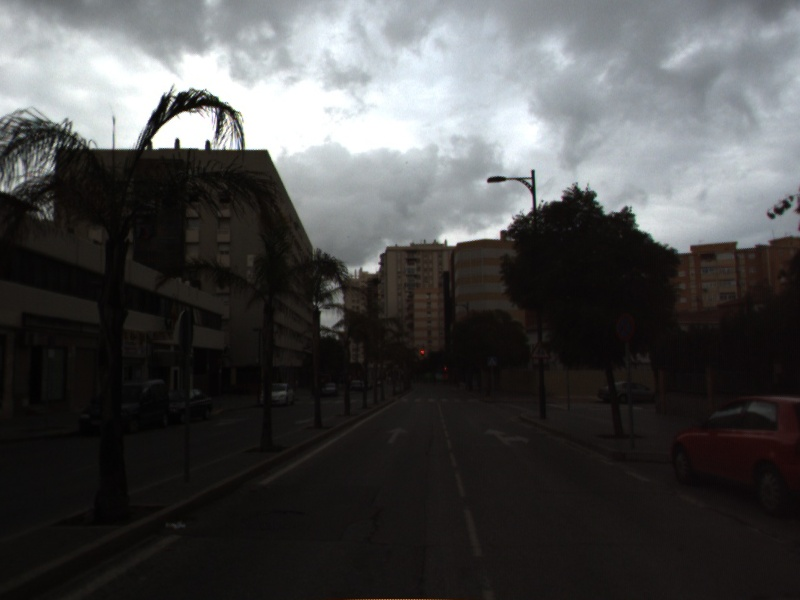STRAIGHT: (384, 425, 411, 446)
STRAIGHT_RIGHT: (482, 426, 530, 447)
